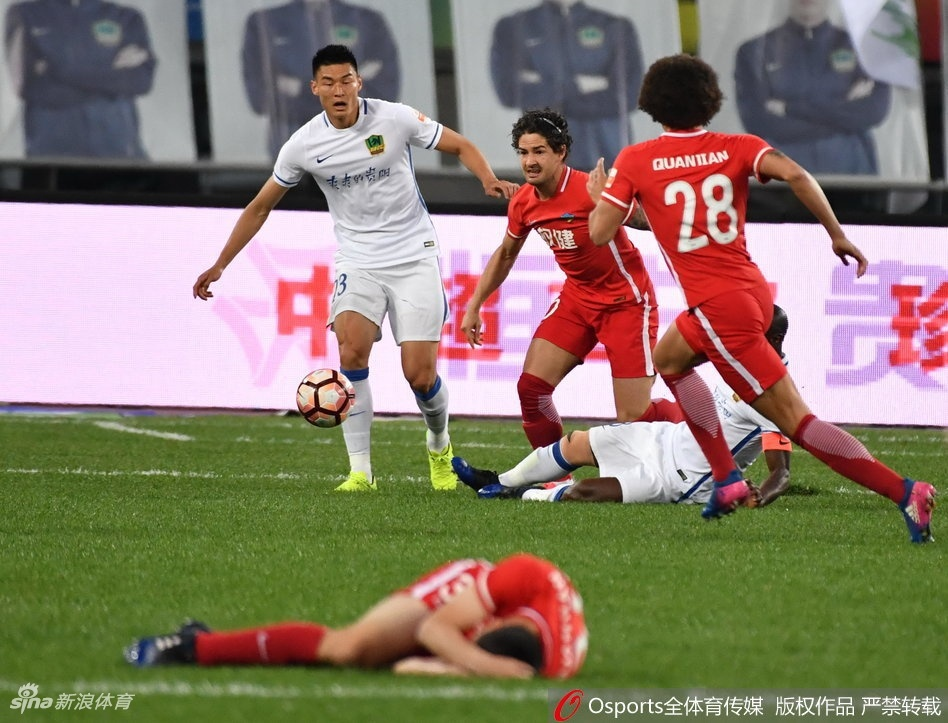falling: (442, 377, 811, 516)
